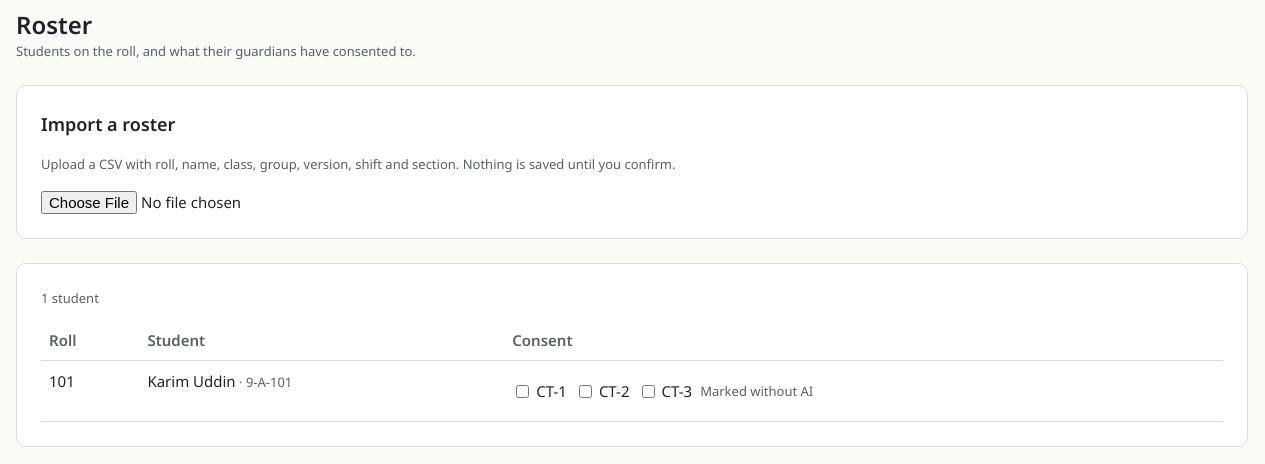
Test case: RosterPage › stops saying so once CT-2 is recorded
Click the checkbox labelled "CT-2" at (585, 391), box x1=579 y1=384 x2=592 y2=398
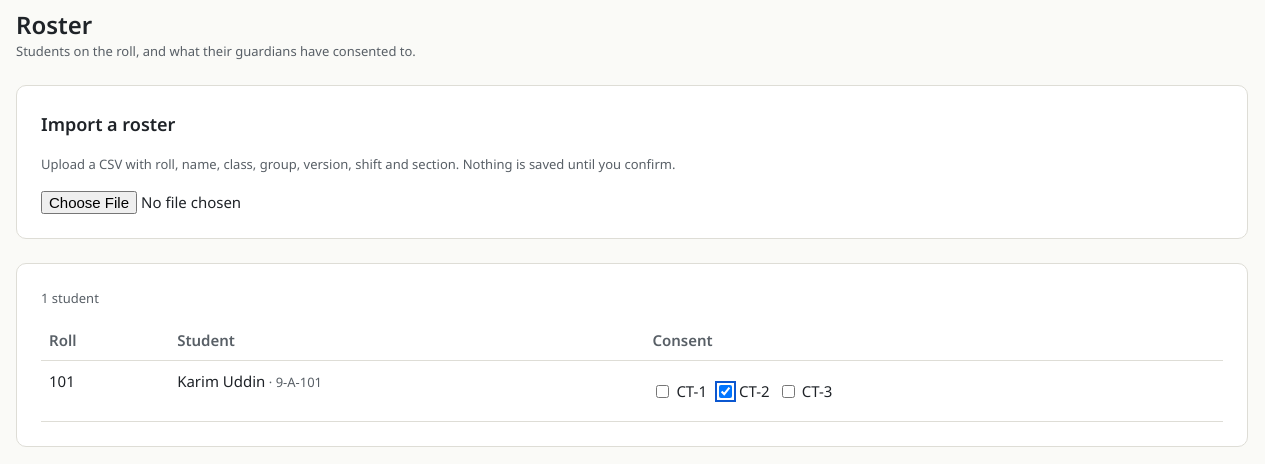
expect the text "Marked without AI" is gone: met
